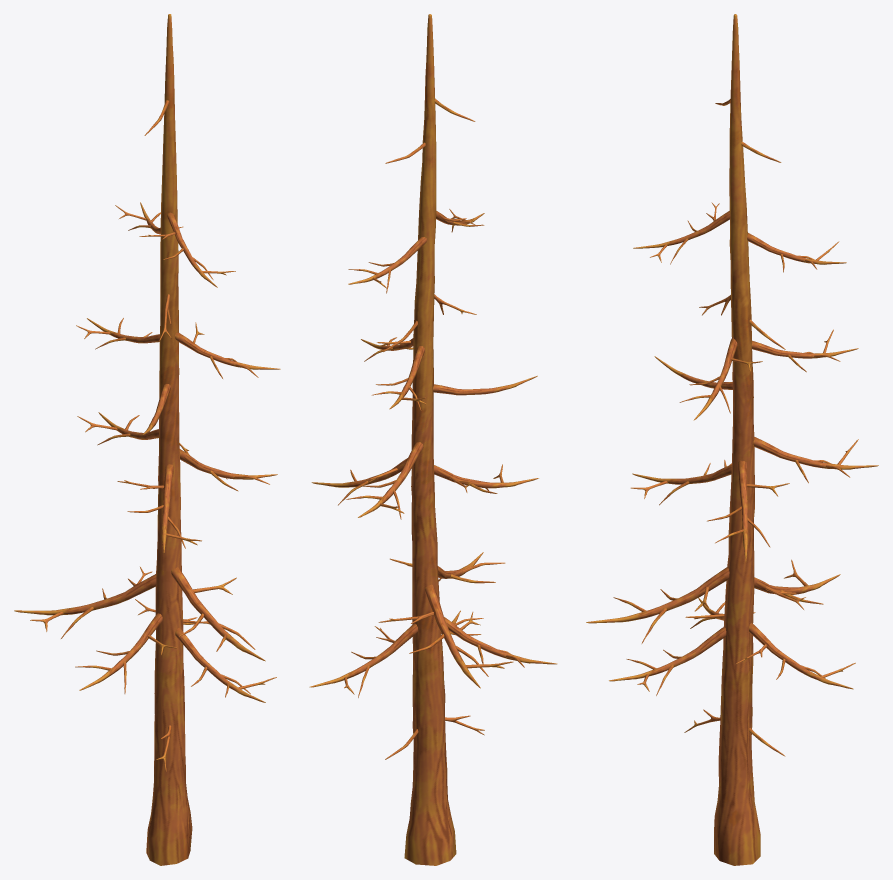
File: pine_var5.glb
3 views of the same model, side by side, from view 1: azimuth 30°, elevation 25°; view 2: azimuth 150°, elevation 25°; view 3: azimuth 270°, elevation 25° (orthographic).
Visible parts, largest first — view 1: stylized_pine_var5_m_trunk_0; view 2: stylized_pine_var5_m_trunk_0; view 3: stylized_pine_var5_m_trunk_0.
Part boxes in pixels (x1,y1,x2,y2): stylized_pine_var5_m_trunk_0: (14,14,280,865); stylized_pine_var5_m_trunk_0: (309,14,557,865); stylized_pine_var5_m_trunk_0: (586,14,878,865).
Bounding box in the file's own units: 3.41 × 12.18 × 3.84.
Materials: 1 (1 with a texture image).
